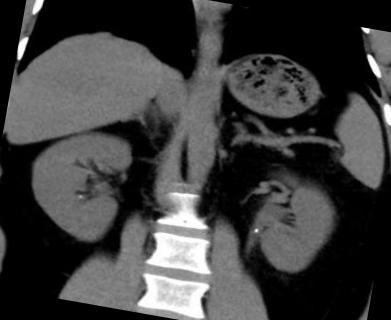Tas_Var: (251, 225, 260, 235), (76, 192, 82, 200)
